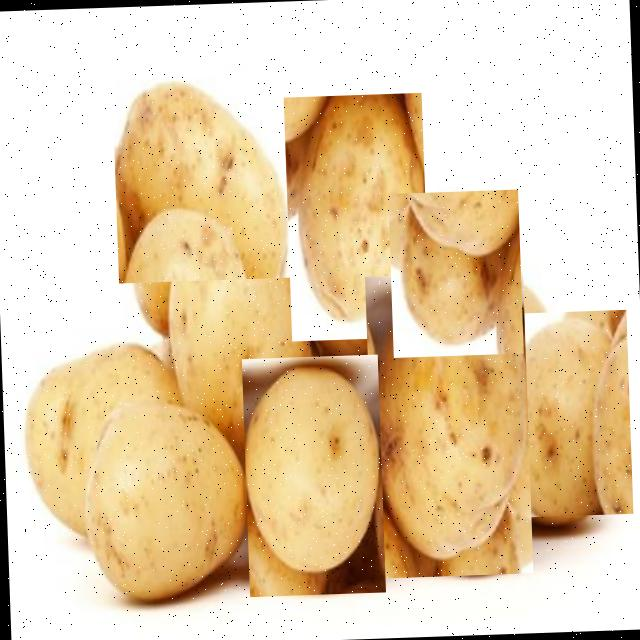Potato: (364, 271, 532, 578), (78, 386, 255, 618), (112, 67, 298, 283), (168, 208, 322, 457), (284, 92, 429, 341), (242, 354, 386, 597), (16, 324, 180, 520), (486, 309, 633, 518), (388, 189, 524, 357)
